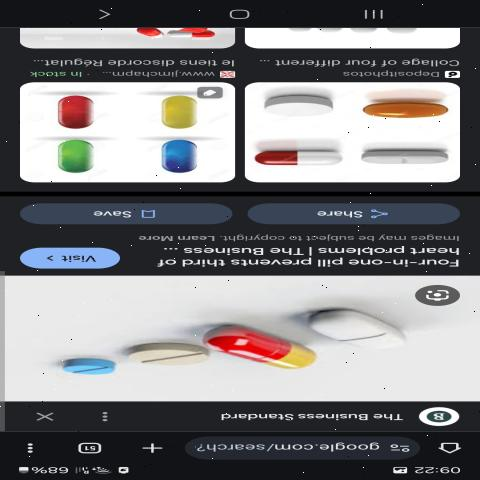Pill: (284, 299, 411, 356), (119, 336, 220, 374), (250, 141, 347, 173), (38, 352, 125, 385), (356, 144, 458, 171), (260, 91, 340, 122)
